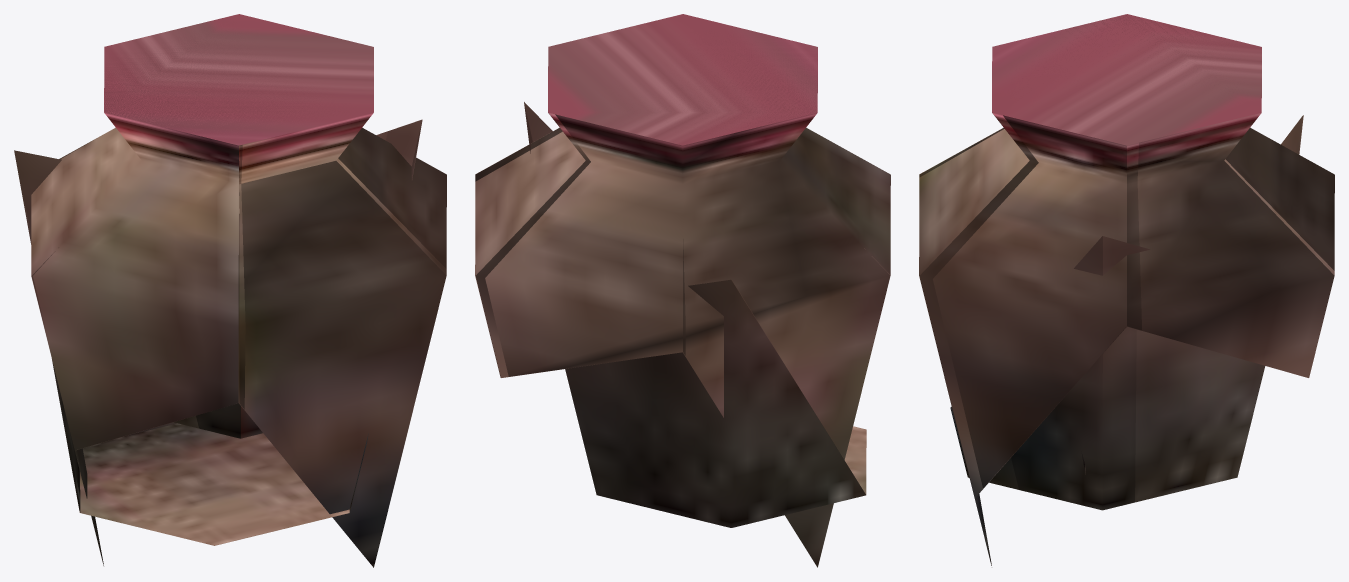
Rendered from Jug01.obj.
3 renders of one model, left to right at view 1: azimuth 30°, elevation 25°; view 2: azimuth 150°, elevation 25°; view 3: azimuth 270°, elevation 25°, orthographic.
Parts seen in each view (by area): view 1: 2, 6, 5, 7, 0, 3, 1; view 2: 2, 0, 6, 5, 7; view 3: 2, 6, 0, 7, 5, 3.
Part boxes in pixels (x1,y1,x2,y2): 2: [31, 14, 446, 567]; 6: [32, 14, 446, 450]; 5: [75, 14, 373, 565]; 7: [82, 121, 421, 545]; 0: [14, 119, 422, 545]; 3: [14, 119, 421, 525]; 1: [196, 403, 262, 438]; 2: [475, 14, 890, 567]; 0: [524, 102, 866, 527]; 6: [475, 14, 890, 377]; 5: [548, 15, 817, 145]; 7: [524, 102, 866, 494]; 2: [919, 14, 1334, 565]; 6: [919, 14, 1334, 565]; 0: [950, 115, 1303, 510]; 7: [950, 236, 1149, 510]; 5: [979, 15, 1261, 498]; 3: [959, 115, 1303, 489].
Bounding box in the file's own units: 18.92 × 19.81 × 16.4.
